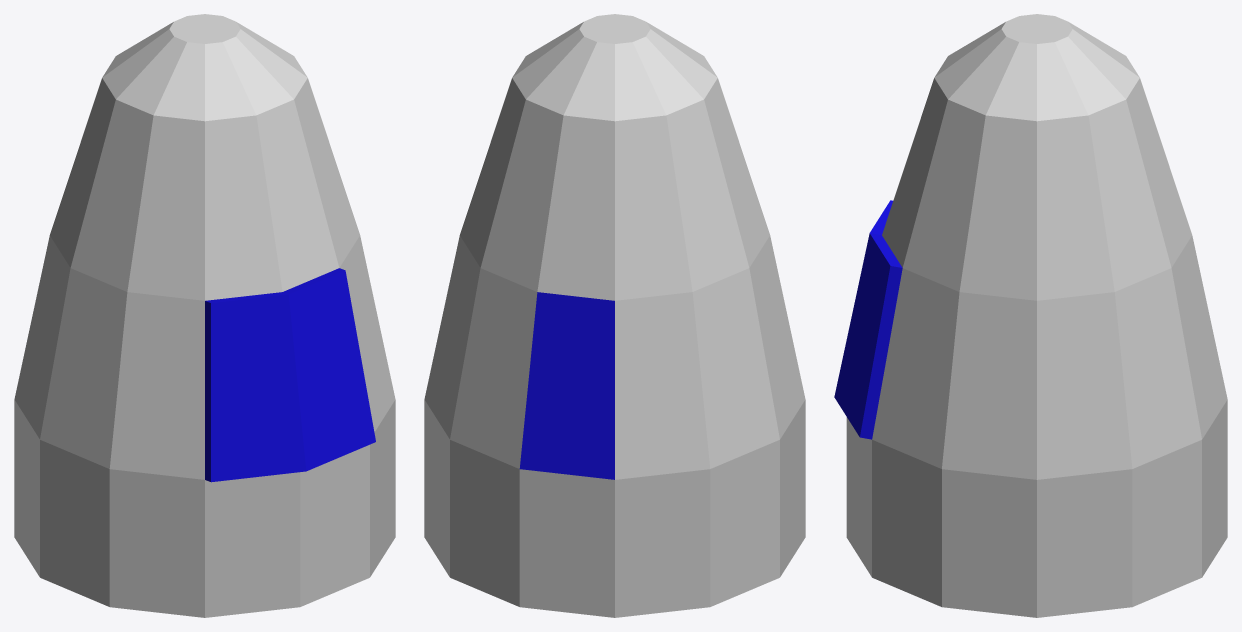
Rendered from Head05.gltf.
The picture shows the model from 3 angles, left to right: view 1: azimuth 30°, elevation 25°; view 2: azimuth 150°, elevation 25°; view 3: azimuth 270°, elevation 25°; orthographic projection.
Visible parts, largest first — view 1: Head05; view 2: Head05; view 3: Head05.
Boxes of the visible parts, box(x1,y1,x2,y2) form: Head05: box(14, 14, 395, 617); Head05: box(424, 14, 805, 617); Head05: box(834, 14, 1227, 617).
Bounding box in the file's own units: 0.5 × 0.736 × 0.5161.
